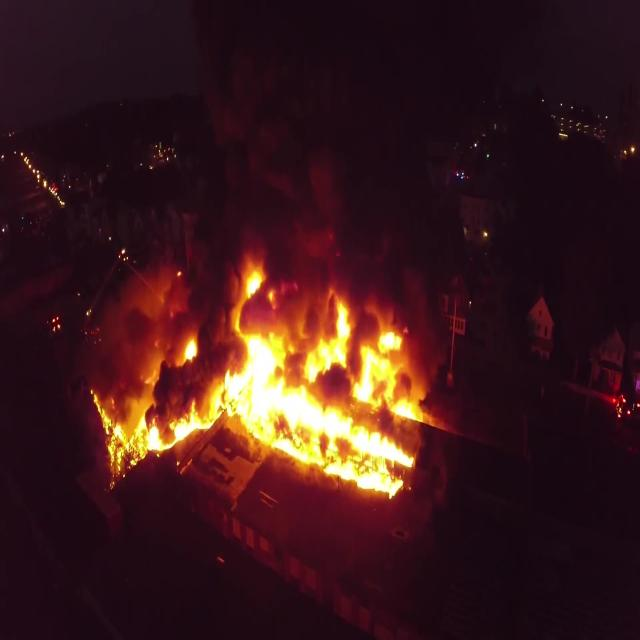Fire: (102, 263, 408, 516)
Smoke: (160, 7, 527, 284)
